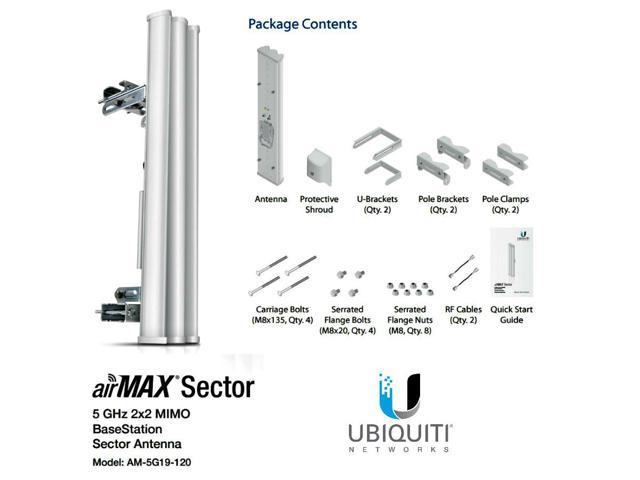sa: (126, 15, 206, 356)
